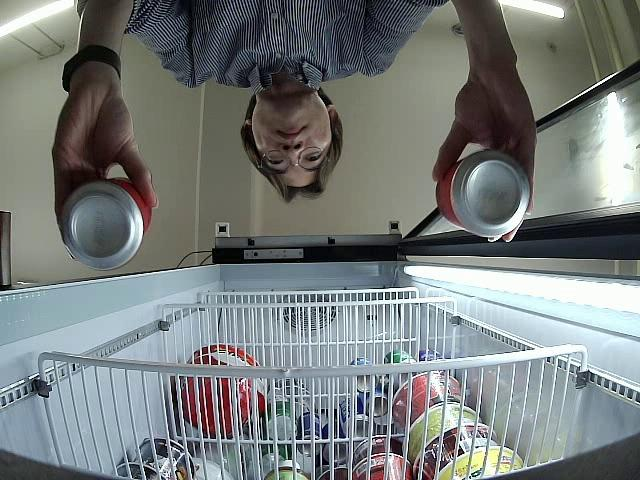00_hand: (51, 94, 160, 261), (433, 71, 537, 243)
11_cocaColaZero: (59, 180, 150, 268), (435, 151, 529, 233)
